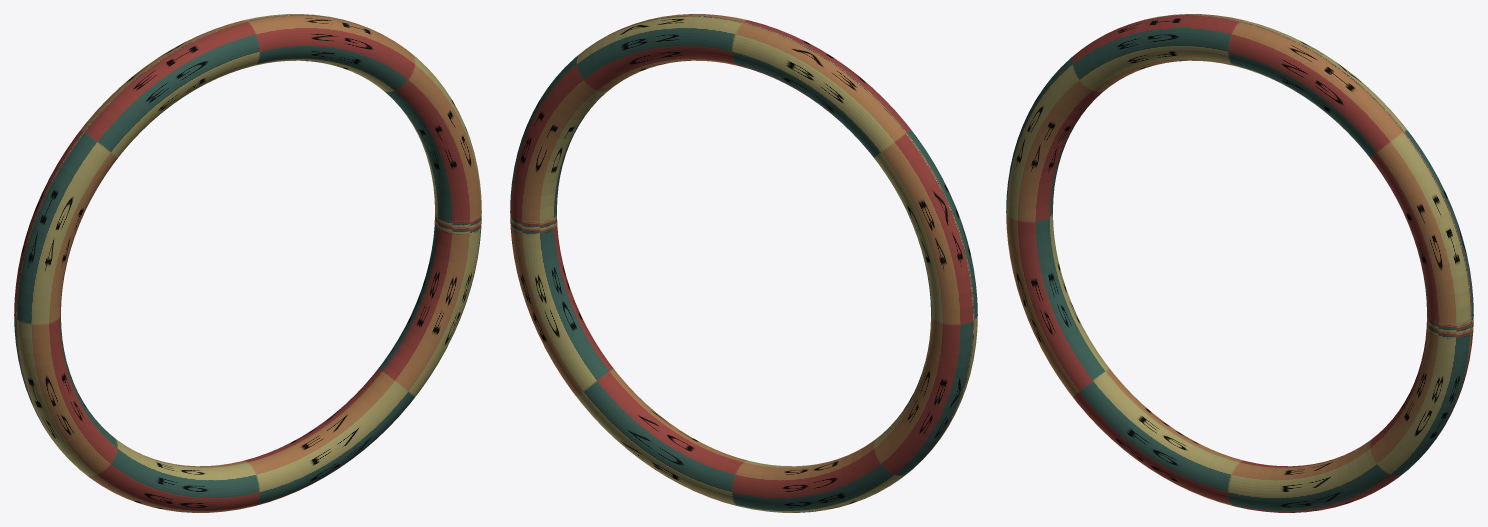
The model's file is texture_torus_R9_r1.glb.
3 views of the same model, side by side, from view 1: azimuth 30°, elevation 25°; view 2: azimuth 150°, elevation 25°; view 3: azimuth 330°, elevation 25° (orthographic).
Visible parts, largest first — view 1: world; view 2: world; view 3: world.
Boxes of the visible parts, bbox=[...] form: world: bbox=[14, 14, 481, 512]; world: bbox=[510, 14, 977, 512]; world: bbox=[1006, 14, 1473, 512].
Bounding box in the file's own units: 32.89 × 32.89 × 2.88.
Materials: 1 (1 with a texture image).
